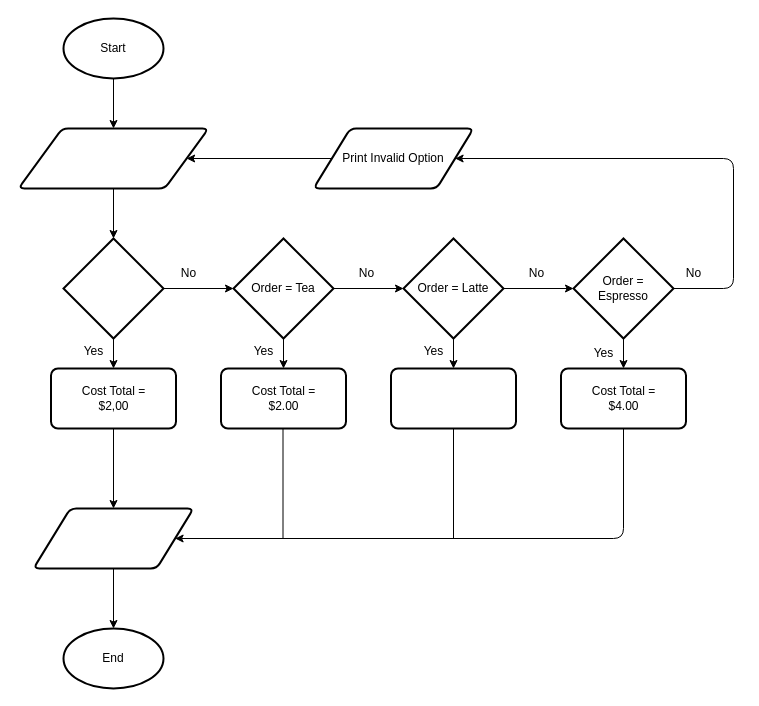
Some shapes in this 759 by 706 pixel diagram are drawn without their labels. The centre of each missing label's shape, as x and y in pixels:
Cost Total = $4,00: point 453,398
Customer Orders: point 113,158
Order = black coffee: point 113,288
Print Cost total: point 113,538
